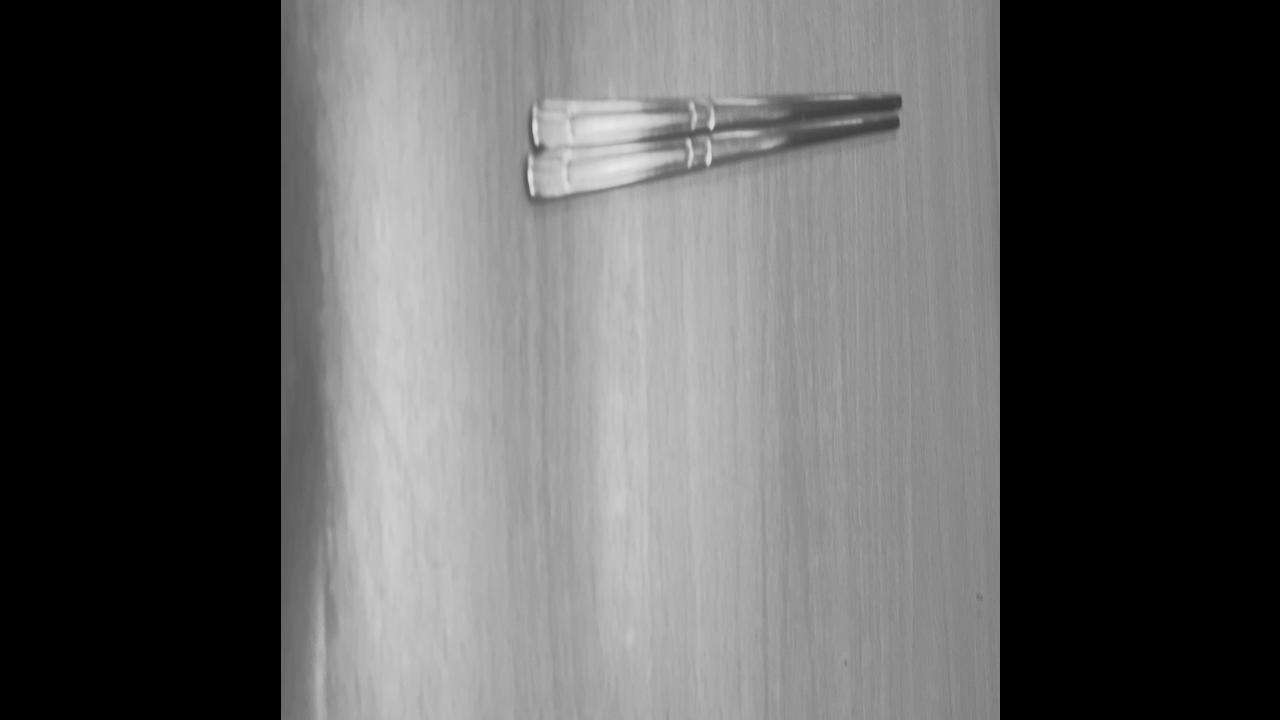chopstick: (528, 94, 902, 200)
